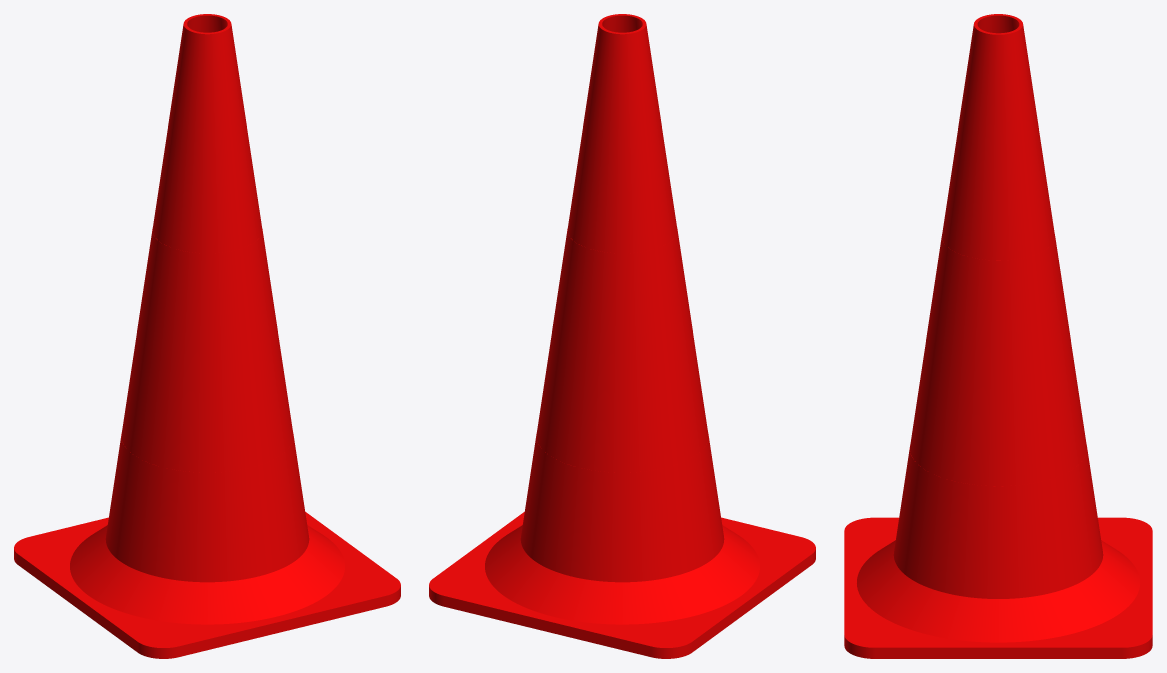
The model's file is pylon.gltf.
The picture shows the model from 3 angles, left to right: view 1: azimuth 30°, elevation 25°; view 2: azimuth 150°, elevation 25°; view 3: azimuth 270°, elevation 25°; orthographic projection. The views are drawn at different scales.
Visible parts, largest first — view 1: pylon_clone; view 2: pylon_clone; view 3: pylon_clone.
Part boxes in pixels (box(x1,y1,x2,y2)): pylon_clone: box(14, 14, 400, 658); pylon_clone: box(429, 14, 815, 658); pylon_clone: box(844, 14, 1152, 658).
Size of the model in its own units: 0.25 by 0.51 by 0.25.
